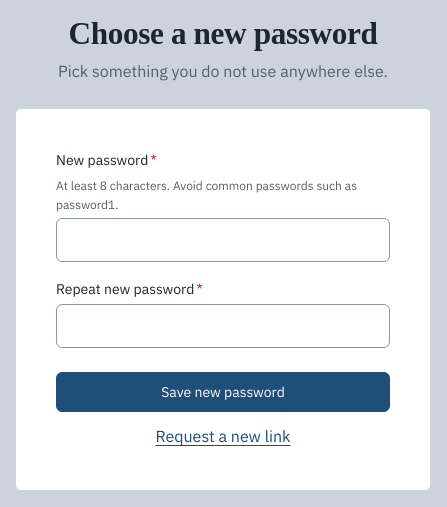
it: ResetPasswordPage › sends uid and token from the query string
The width and height of the screenshot is (447, 507).
Type "Sierra-Foothills-2027" into the password field labelled "New password*".
click(223, 240); type("Sierra-Foothills-2027")  # box [56,218,390,262]
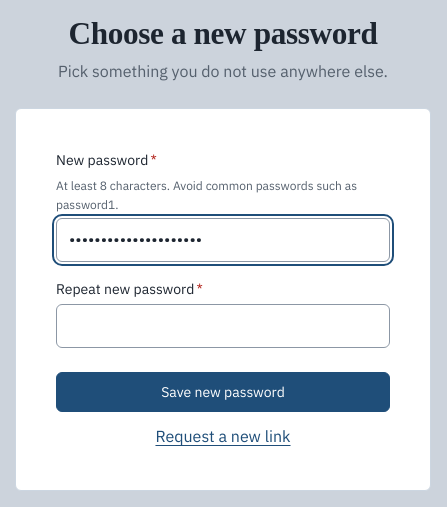
Type "Sierra-Foothills-2027" into the password field labelled "Repeat new password*".
click(223, 326); type("Sierra-Foothills-2027")  # box [56,304,390,348]
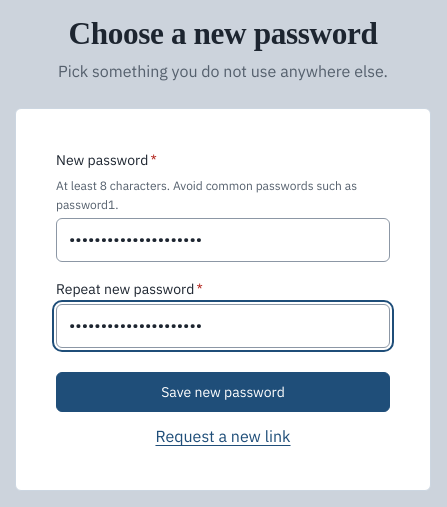
Click the button "Save new password".
click(223, 392)  # box [56,372,390,412]
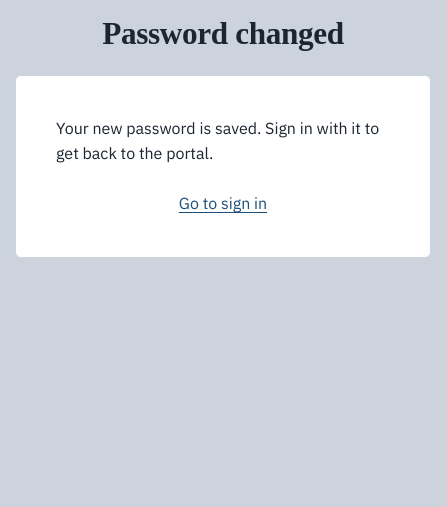
Check: the heading "Password changed" is shown, box [102,16,344,51]
